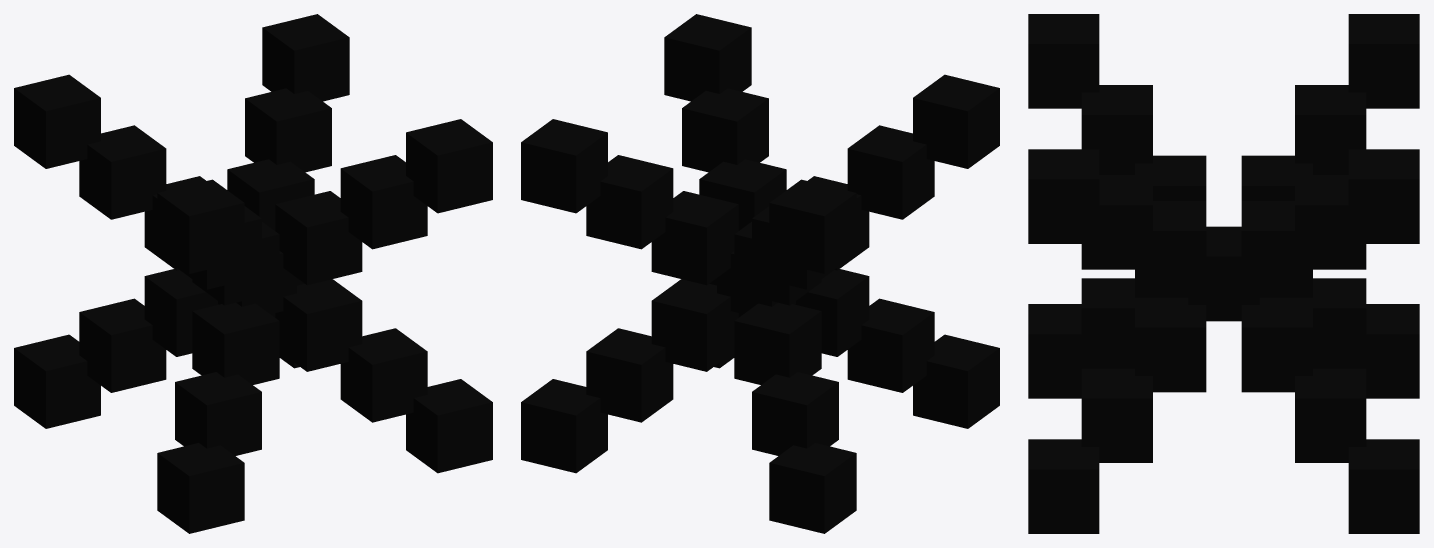
The model's file is cross.obj.
The picture shows the model from 3 angles, left to right: view 1: azimuth 30°, elevation 25°; view 2: azimuth 150°, elevation 25°; view 3: azimuth 270°, elevation 25°; orthographic projection. The views are drawn at different scales.
Visible parts, largest first — view 1: Untitled; view 2: Untitled; view 3: Untitled.
Boxes of the visible parts, x1,y1,x2,y2 form: Untitled: [14, 14, 492, 533]; Untitled: [521, 14, 999, 533]; Untitled: [1028, 14, 1419, 533].
Size of the model in its own units: 2.2 by 2.2 by 2.2.
